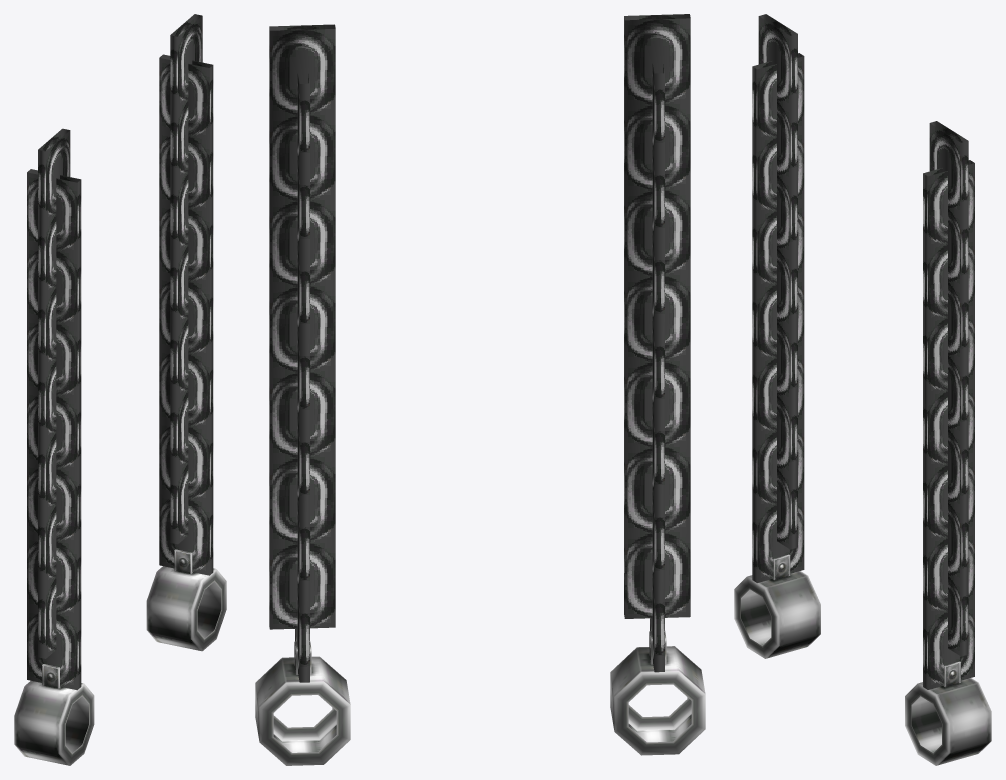
File: SWORDLIGHT20_INST_CHAINCUFFS_LOD1_01.fbx
3 renders of one model, left to right at view 1: azimuth 30°, elevation 25°; view 2: azimuth 150°, elevation 25°; view 3: azimuth 270°, elevation 25°, orthographic. The views are drawn at different scales.
Visible parts, largest first — view 1: SWORDLIGHT20_INST_CHAINCUFFS_LOD1_01; view 2: SWORDLIGHT20_INST_CHAINCUFFS_LOD1_01; view 3: SWORDLIGHT20_INST_CHAINCUFFS_LOD1_01.
Part boxes in pixels (left/top/right/bottom): SWORDLIGHT20_INST_CHAINCUFFS_LOD1_01: left=14, top=14, right=226, bottom=765; SWORDLIGHT20_INST_CHAINCUFFS_LOD1_01: left=255, top=14, right=705, bottom=765; SWORDLIGHT20_INST_CHAINCUFFS_LOD1_01: left=734, top=14, right=991, bottom=765.
Bounding box in the file's own units: 6122 × 12114 × 4541.
2 materials, 2 textured.
